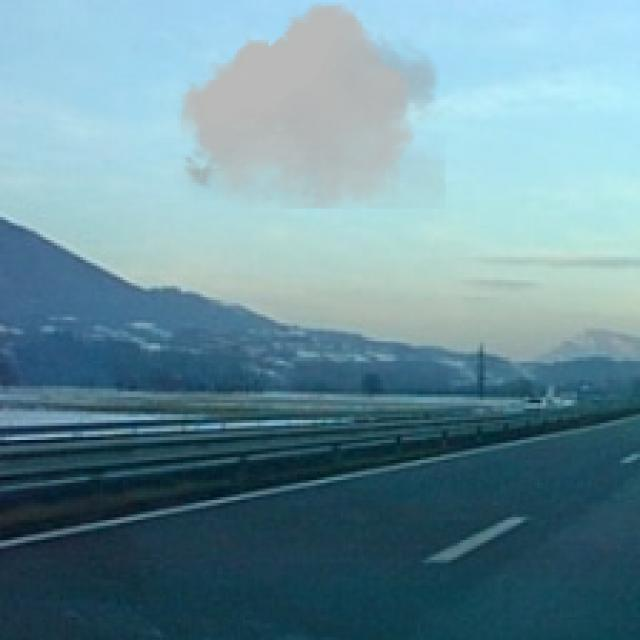Smoke: (174, 2, 446, 208)
